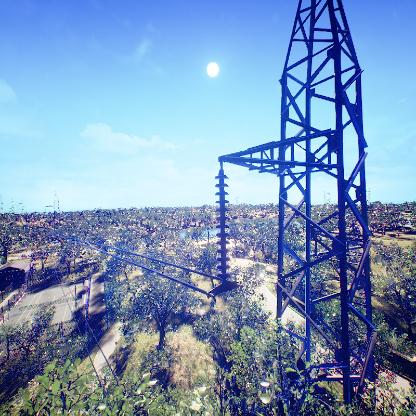insulator: (213, 172, 232, 280)
